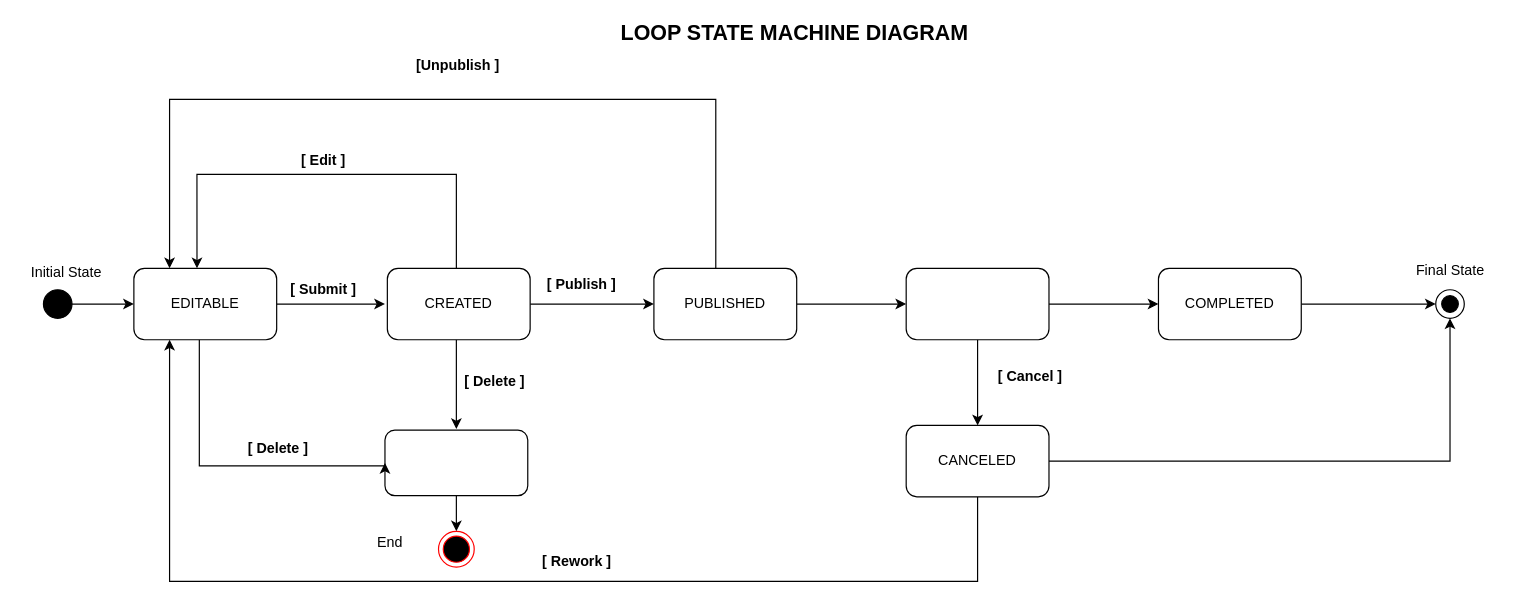
Image size: 1516x612. Some labels were removed from this diagram. Each missing label, with the box of its shape:
ACTIVE: (905, 267, 1049, 340)
DELETED: (384, 429, 528, 496)
